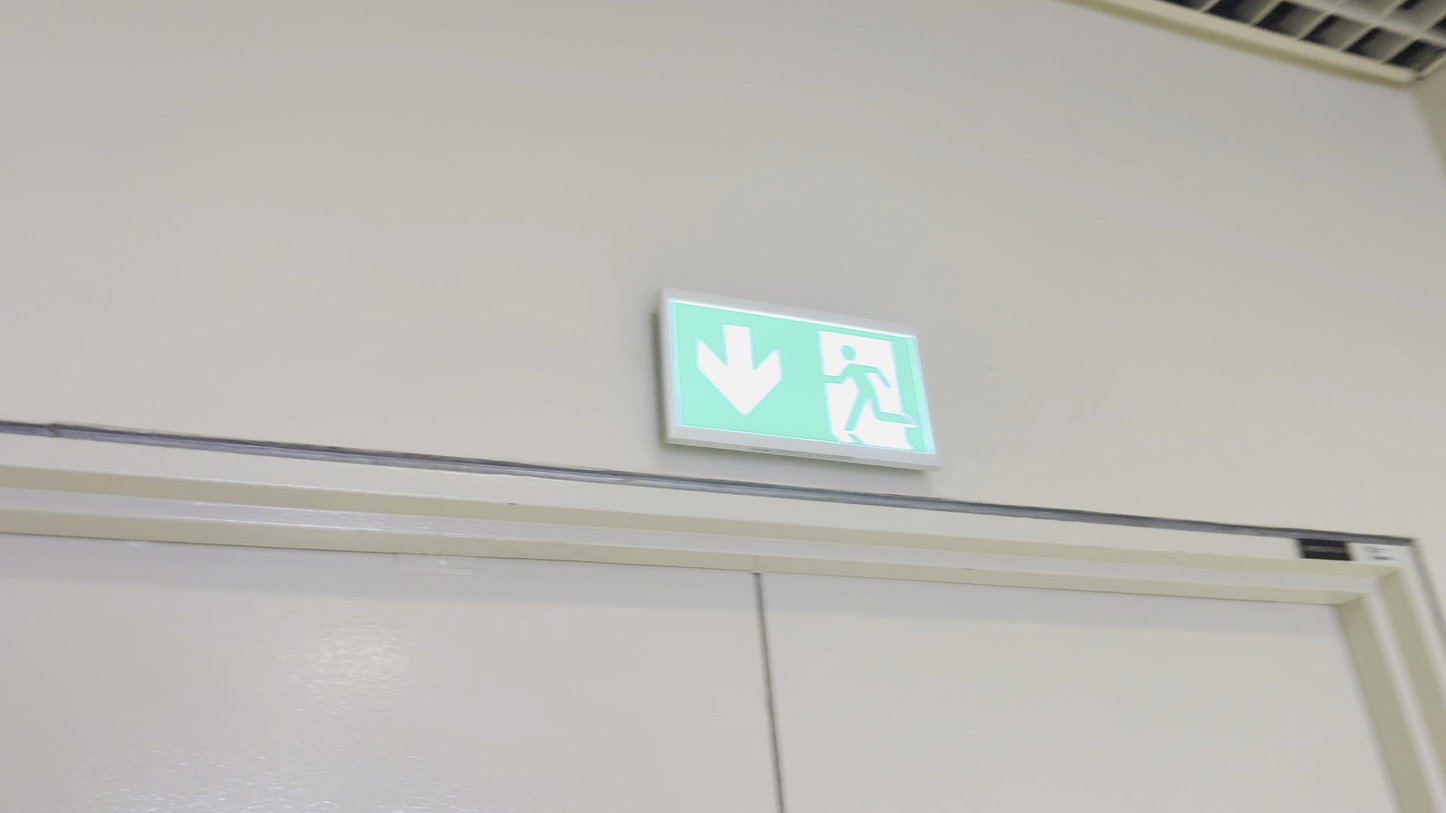emergency_exit: (655, 286, 943, 472)
